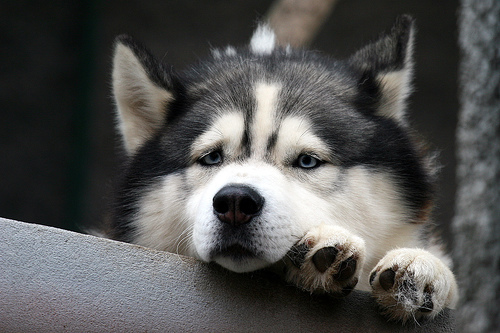dog: (109, 15, 458, 326)
